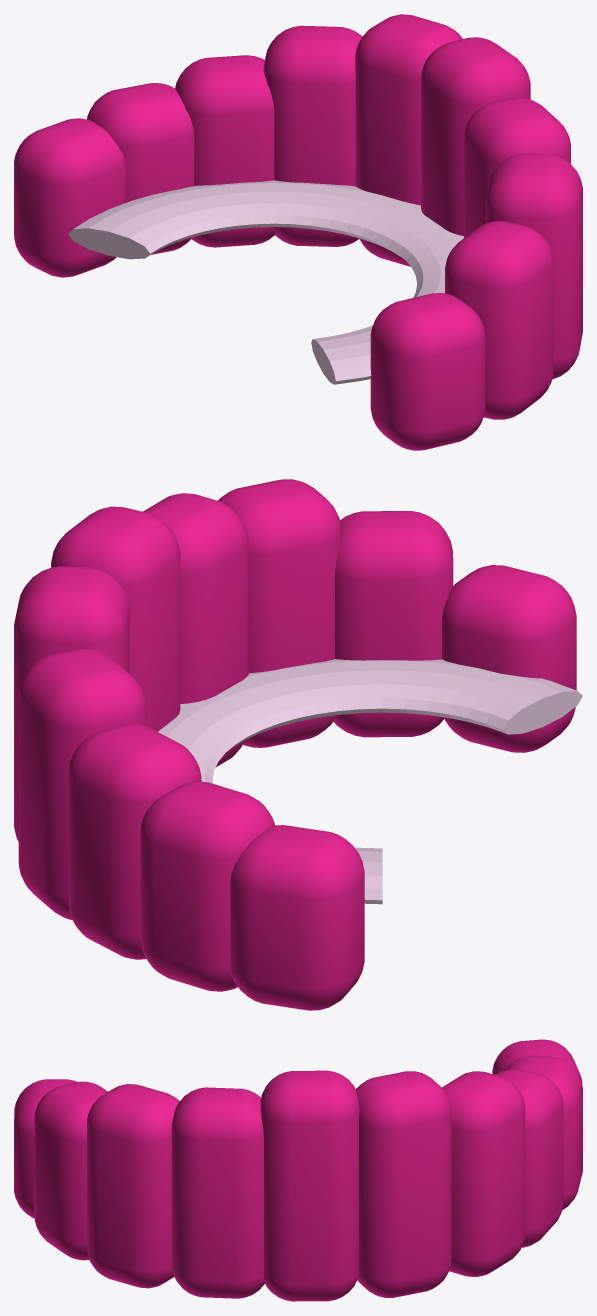
The model's file is pinkcouch.glb.
3 views of the same model, one above another, from view 1: azimuth 30°, elevation 25°; view 2: azimuth 150°, elevation 25°; view 3: azimuth 270°, elevation 25° (orthographic). The views are drawn at different scales.
Visible parts, largest first — view 1: Torus, Roundcube.010, Roundcube.009, Roundcube.004, Roundcube.001, Roundcube.005, Roundcube.003, Roundcube.006, Roundcube.008, Roundcube.002, Roundcube.007; view 2: Torus, Roundcube.001, Roundcube.002, Roundcube.003, Roundcube.009, Roundcube.008, Roundcube.004, Roundcube.010, Roundcube.007, Roundcube.006, Roundcube.005; view 3: Roundcube.006, Roundcube.005, Roundcube.007, Roundcube.008, Roundcube.004, Roundcube.009, Roundcube.003, Roundcube.002, Roundcube.010, Roundcube.001.
Part boxes in pixels (x1,y1,x2,y2): Torus: (68, 180, 463, 384); Roundcube.010: (370, 293, 485, 450); Roundcube.009: (445, 221, 553, 419); Roundcube.004: (263, 25, 362, 246); Roundcube.001: (14, 118, 125, 277); Roundcube.005: (355, 14, 462, 266); Roundcube.003: (175, 55, 274, 247); Roundcube.006: (421, 37, 530, 235); Roundcube.008: (485, 153, 582, 379); Roundcube.002: (87, 83, 194, 254); Roundcube.007: (464, 98, 570, 237); Torus: (158, 659, 582, 904); Roundcube.001: (230, 825, 364, 1010); Roundcube.002: (140, 781, 274, 991); Roundcube.003: (68, 723, 201, 959); Roundcube.009: (333, 511, 453, 737); Roundcube.008: (218, 479, 341, 747); Roundcube.004: (18, 649, 146, 919); Roundcube.010: (442, 565, 576, 752); Roundcube.007: (143, 493, 248, 766); Roundcube.006: (51, 506, 180, 731); Roundcube.005: (14, 566, 129, 841); Roundcube.006: (260, 1070, 359, 1301); Roundcube.005: (356, 1071, 451, 1297); Roundcube.007: (171, 1087, 264, 1298); Roundcube.008: (87, 1084, 179, 1288); Roundcube.004: (442, 1071, 525, 1276); Roundcube.009: (34, 1081, 107, 1260); Roundcube.003: (495, 1069, 563, 1247); Roundcube.002: (504, 1055, 582, 1209); Roundcube.010: (14, 1079, 76, 1218); Roundcube.001: (492, 1039, 582, 1083).
Size of the model in its own units: 7.73 by 4.84 by 11.49.
